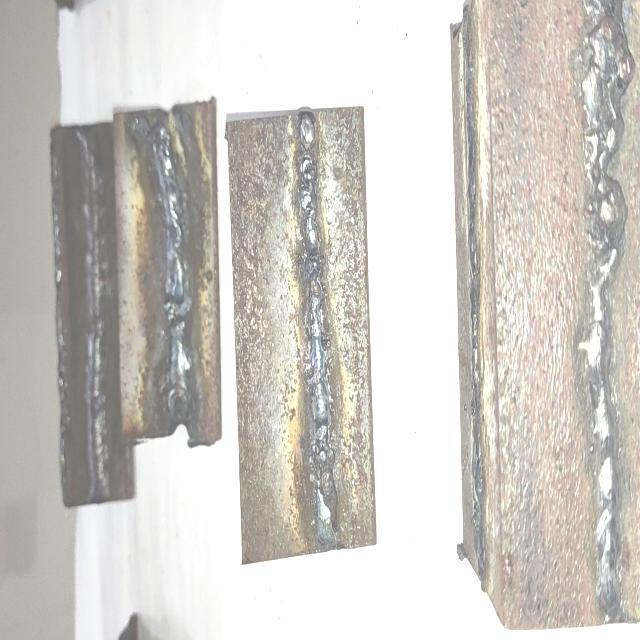Defect: (292, 115, 342, 544), (574, 14, 633, 298), (580, 322, 628, 618), (150, 121, 198, 416)
Welding Line: (582, 8, 622, 612), (297, 124, 339, 542), (148, 116, 195, 420), (80, 131, 106, 495)
Workpiece: (450, 6, 640, 630), (228, 110, 376, 560), (117, 111, 219, 442), (53, 118, 134, 500)
